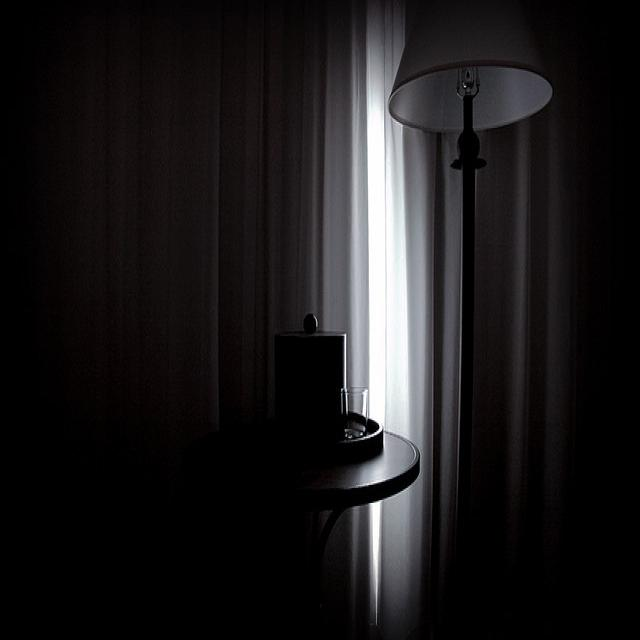Table: (223, 337, 428, 612)
